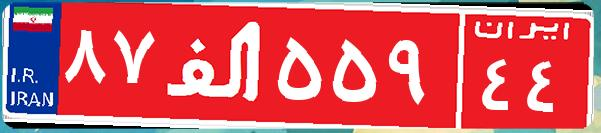4: (475, 38, 525, 113), (525, 38, 570, 115)
5: (273, 28, 330, 110), (330, 28, 385, 110)
7: (110, 28, 158, 105)
8: (57, 26, 110, 107)
9: (385, 28, 445, 110)
الف: (158, 15, 273, 115)
